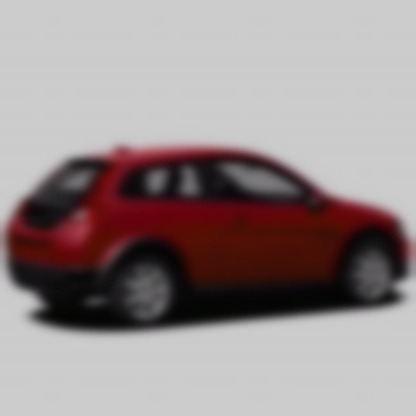Vehicle: (7, 145, 414, 330)
